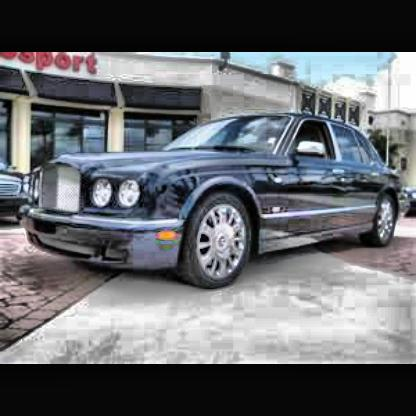Bentley Arnage Sedan 2009: (29, 117, 404, 288)
